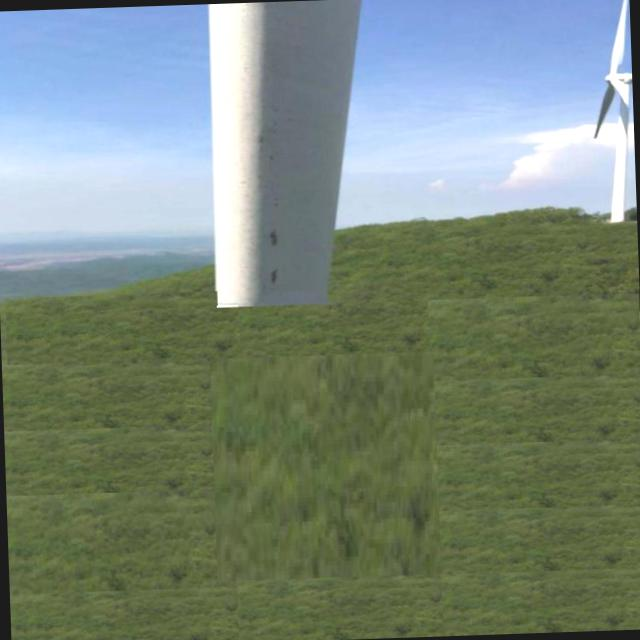surface_peeling: (264, 265, 282, 286), (266, 222, 276, 248)
